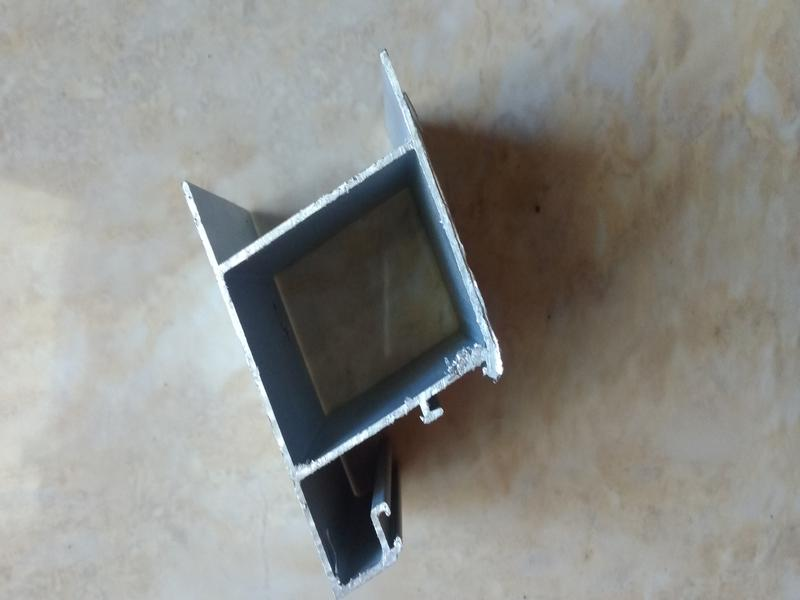Aluminium_2: (147, 32, 527, 598)
